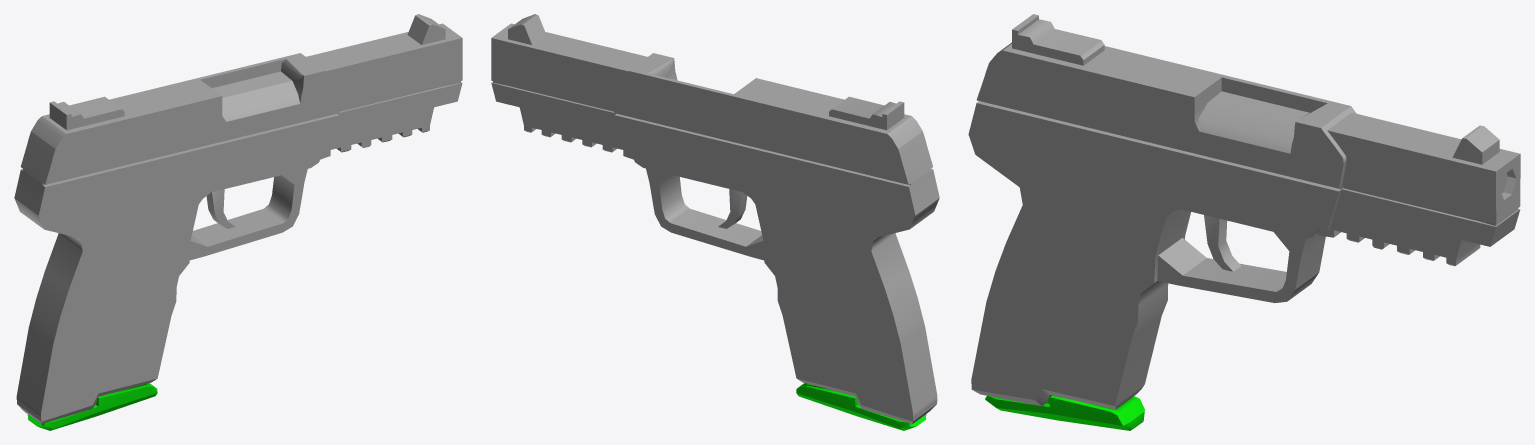
File: FiveSeven.fbx
3 views of the same model, side by side, from view 1: azimuth 30°, elevation 25°; view 2: azimuth 150°, elevation 25°; view 3: azimuth 330°, elevation 25° (orthographic). The views are drawn at different scales.
Parts seen in each view (by area): view 1: FiveSeven, Clip; view 2: FiveSeven, Clip; view 3: FiveSeven, Clip.
Part boxes in pixels (<box>): FiveSeven: <box>14,14,462,423</box>; Clip: <box>27,383,157,430</box>; FiveSeven: <box>491,14,939,423</box>; Clip: <box>796,383,926,430</box>; FiveSeven: <box>968,14,1520,409</box>; Clip: <box>985,395,1144,430</box>.
Size of the model in its own units: 20.28 by 14.34 by 2.02.
